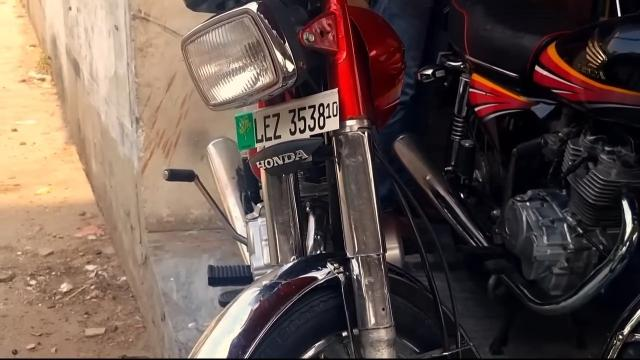plate: (233, 90, 340, 156)
